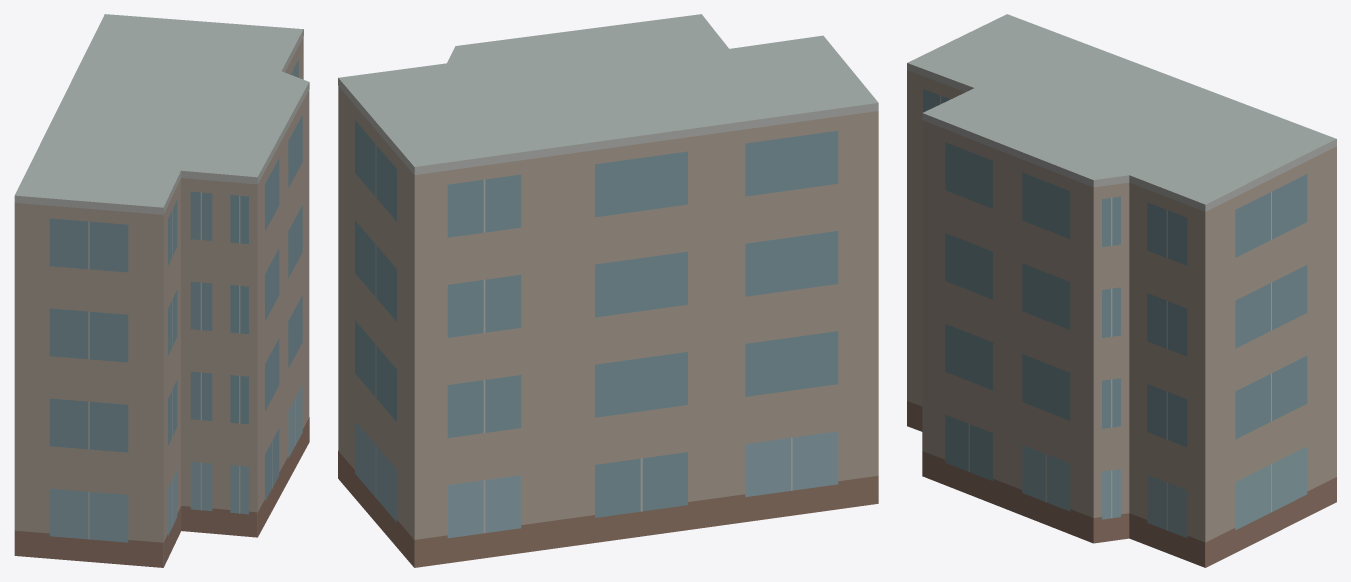
Rendered from survey-upis-32884431.glb.
3 renders of one model, left to right at view 1: azimuth 30°, elevation 25°; view 2: azimuth 150°, elevation 25°; view 3: azimuth 270°, elevation 25°, orthographic. The views are drawn at different scales.
Visible parts, largest first — view 1: survey-upis-32884431.tmp; view 2: survey-upis-32884431.tmp; view 3: survey-upis-32884431.tmp.
Boxes of the visible parts, <box> form: survey-upis-32884431.tmp: <box>14,14,309,567</box>; survey-upis-32884431.tmp: <box>338,14,878,567</box>; survey-upis-32884431.tmp: <box>907,14,1336,567</box>.
Size of the model in its own units: 13.74 by 12.2 by 13.09.
